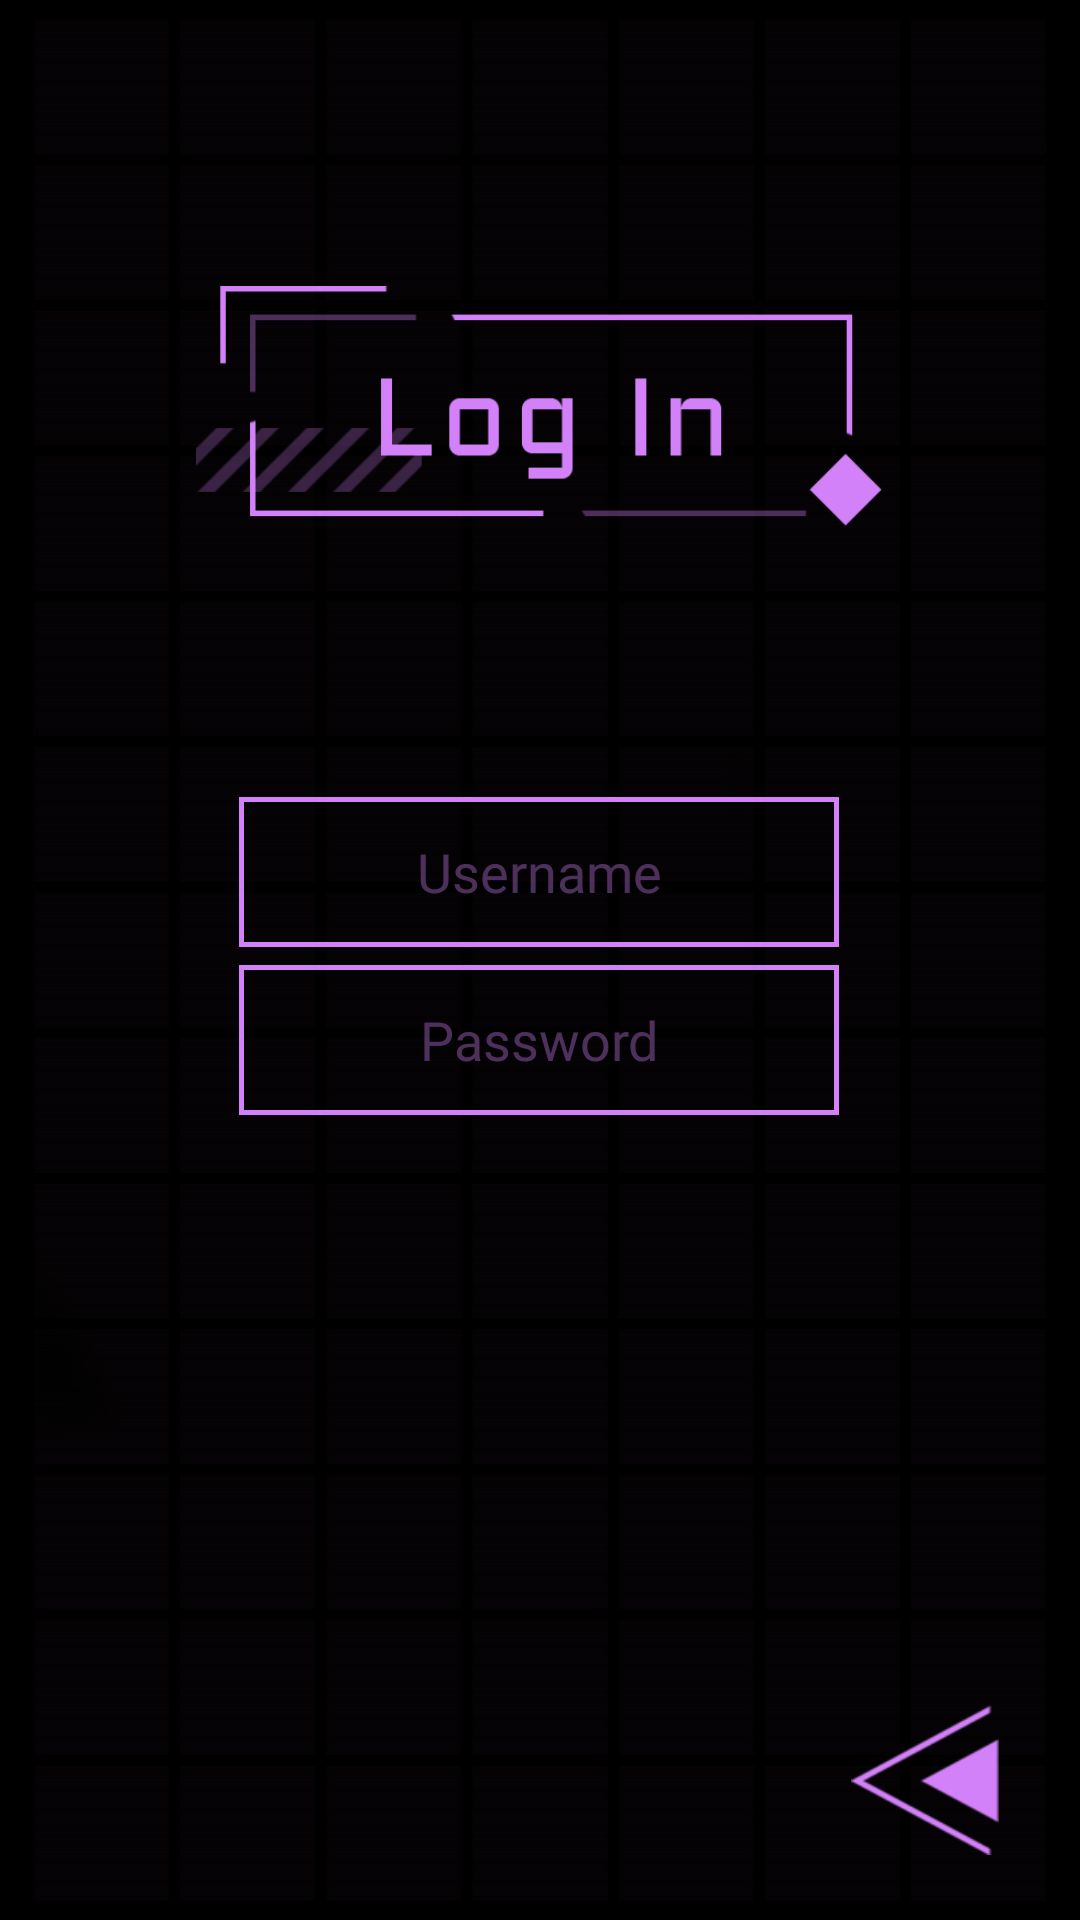

Icons on this 1080 × 1920 Android screen, each with the point to tap as point (x, y):
back: point (925, 1780)
